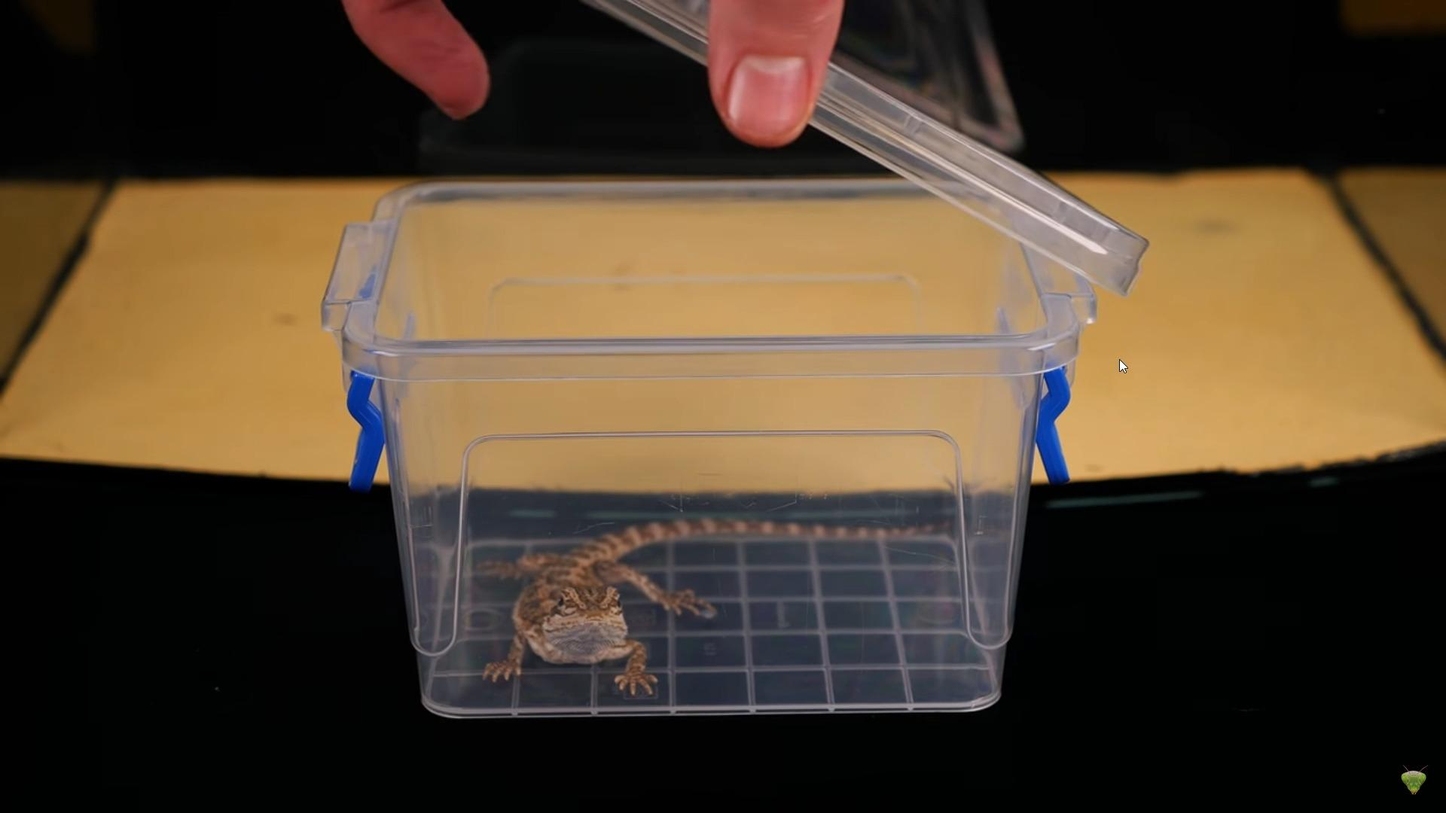lizard: (462, 512, 946, 704)
